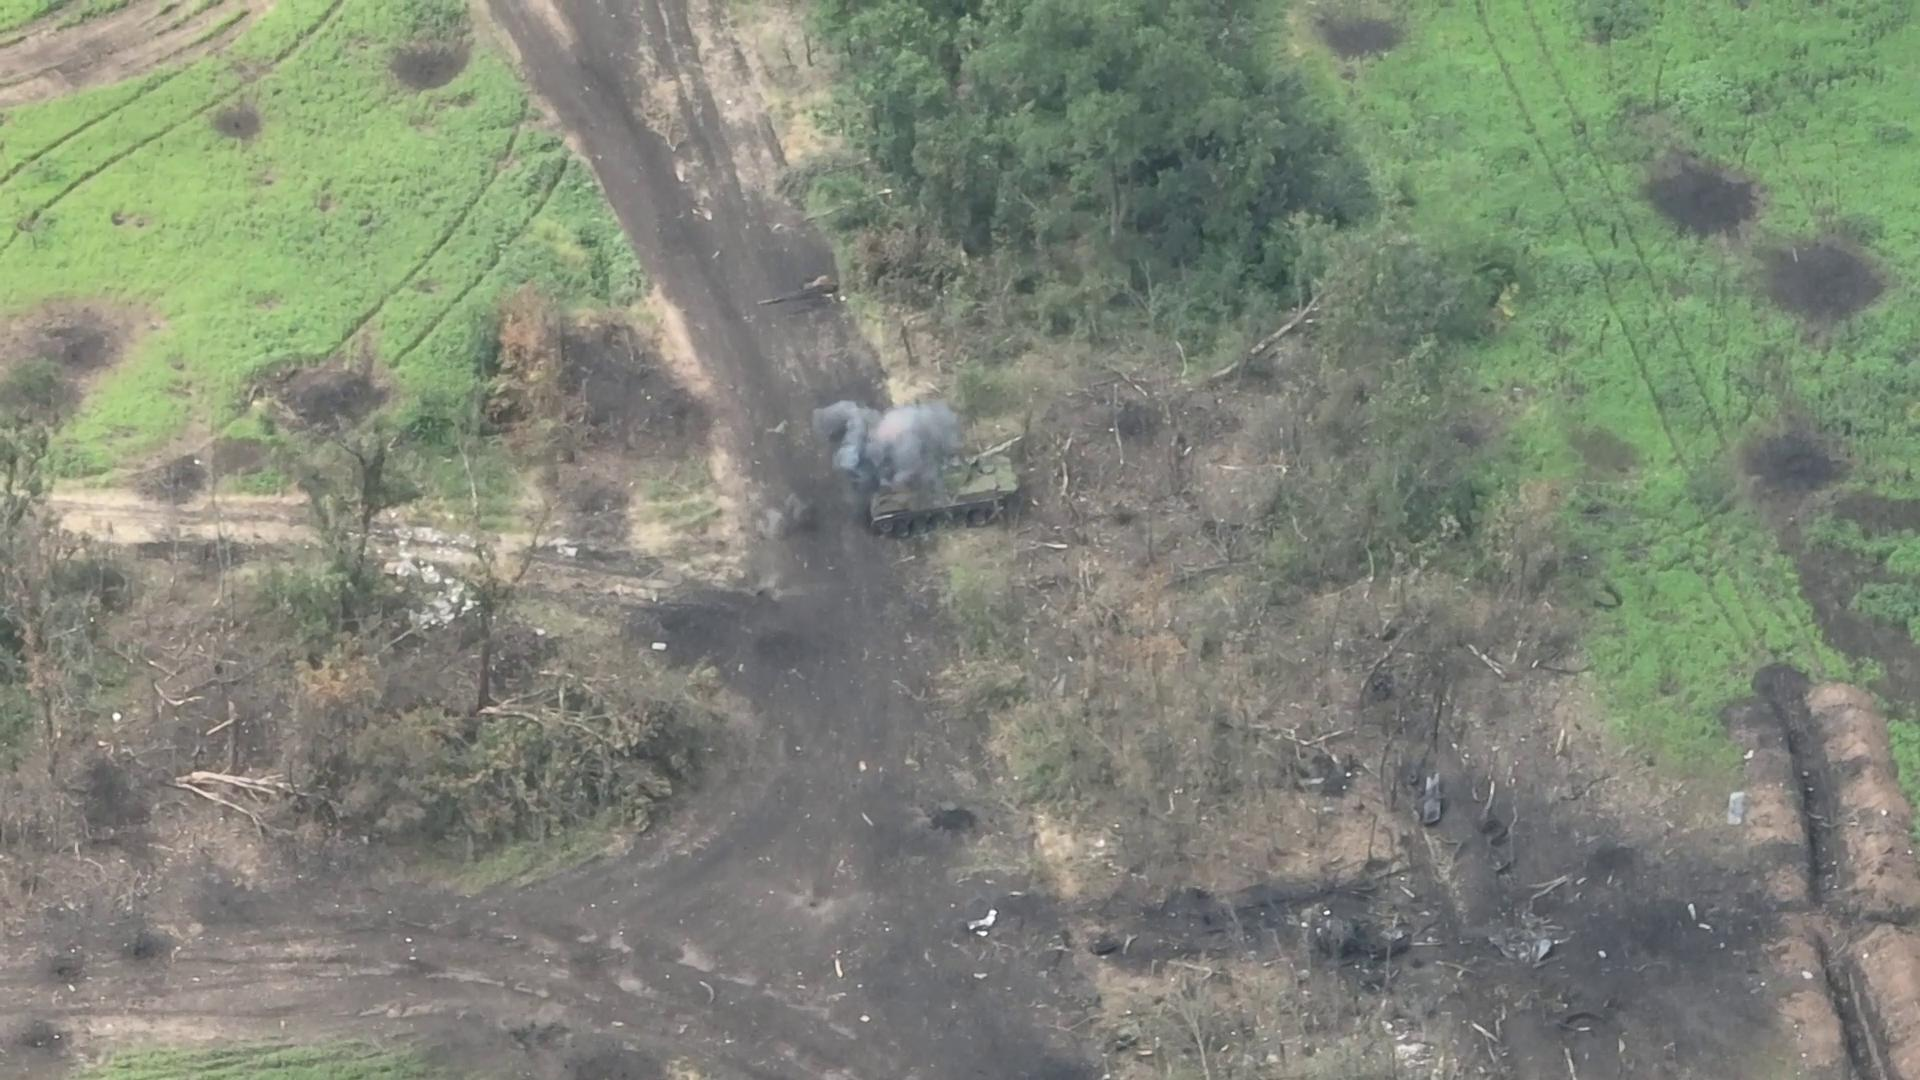tank: (866, 433, 1031, 542)
